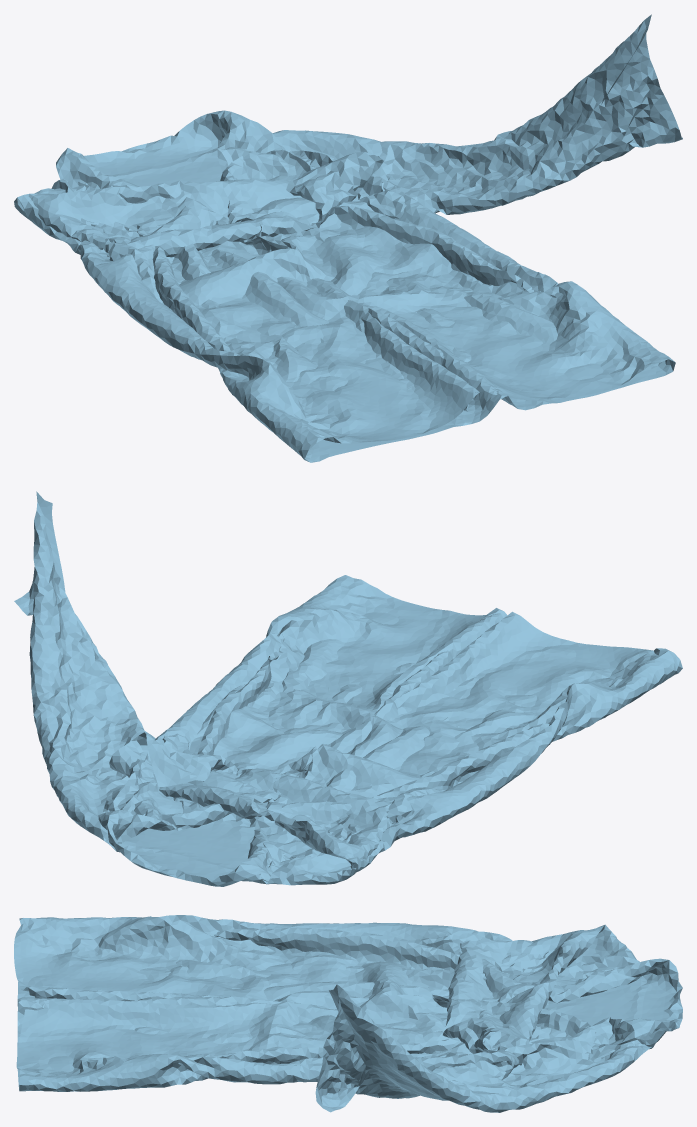
The model's file is frame_04.glb.
The picture shows the model from 3 angles, top to bottom: view 1: azimuth 30°, elevation 25°; view 2: azimuth 150°, elevation 25°; view 3: azimuth 270°, elevation 25°; orthographic projection. The views are drawn at different scales.
Parts seen in each view (by area): view 1: frame_04.obj; view 2: frame_04.obj; view 3: frame_04.obj.
Boxes of the visible parts, box(x1,y1,x2,y2) form: frame_04.obj: box(14, 14, 682, 462); frame_04.obj: box(14, 491, 682, 886); frame_04.obj: box(14, 915, 682, 1112).
Bounding box in the file's own units: 1.42 × 0.4893 × 1.65.
